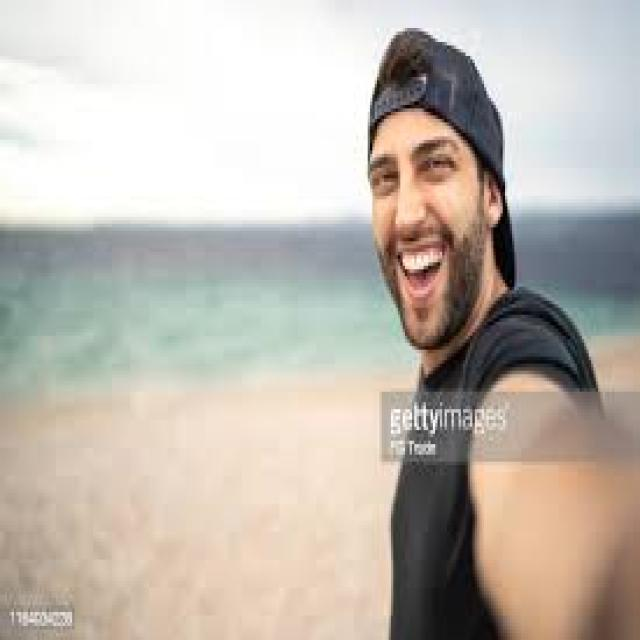cap: (361, 25, 521, 346)
